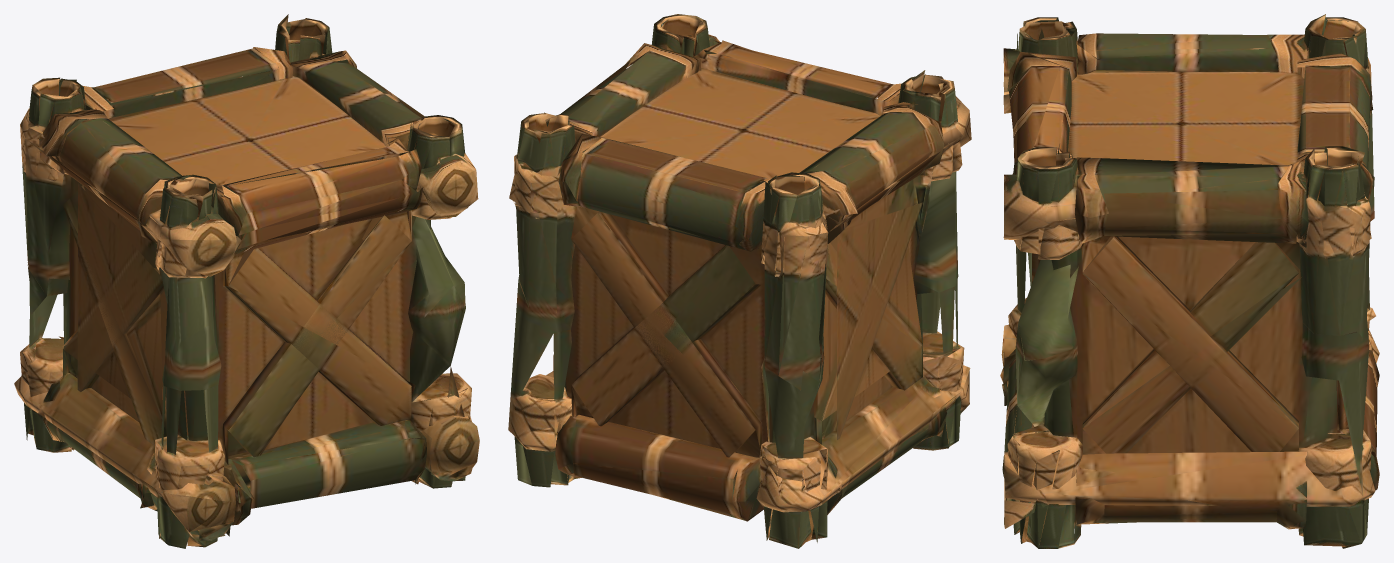
The model's file is Crate.fbx.
The picture shows the model from 3 angles, left to right: view 1: azimuth 30°, elevation 25°; view 2: azimuth 150°, elevation 25°; view 3: azimuth 270°, elevation 25°; orthographic projection. The views are drawn at different scales.
Visible parts, largest first — view 1: Crate; view 2: Crate; view 3: Crate.
Part boxes in pixels (x1,y1,x2,y2): Crate: [14, 14, 479, 548]; Crate: [508, 14, 971, 548]; Crate: [1000, 14, 1379, 548].
Size of the model in its own units: 0.8905 by 0.95 by 0.8492.
1 material, 1 textured.
